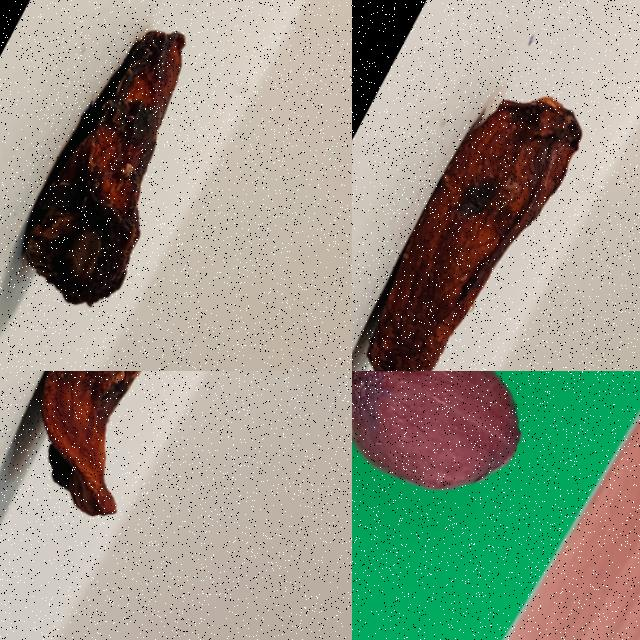Fine_cocoabeans: (352, 371, 596, 581)
Flat_cocoabeans: (0, 0, 311, 370), (352, 49, 629, 370), (0, 371, 312, 606)
